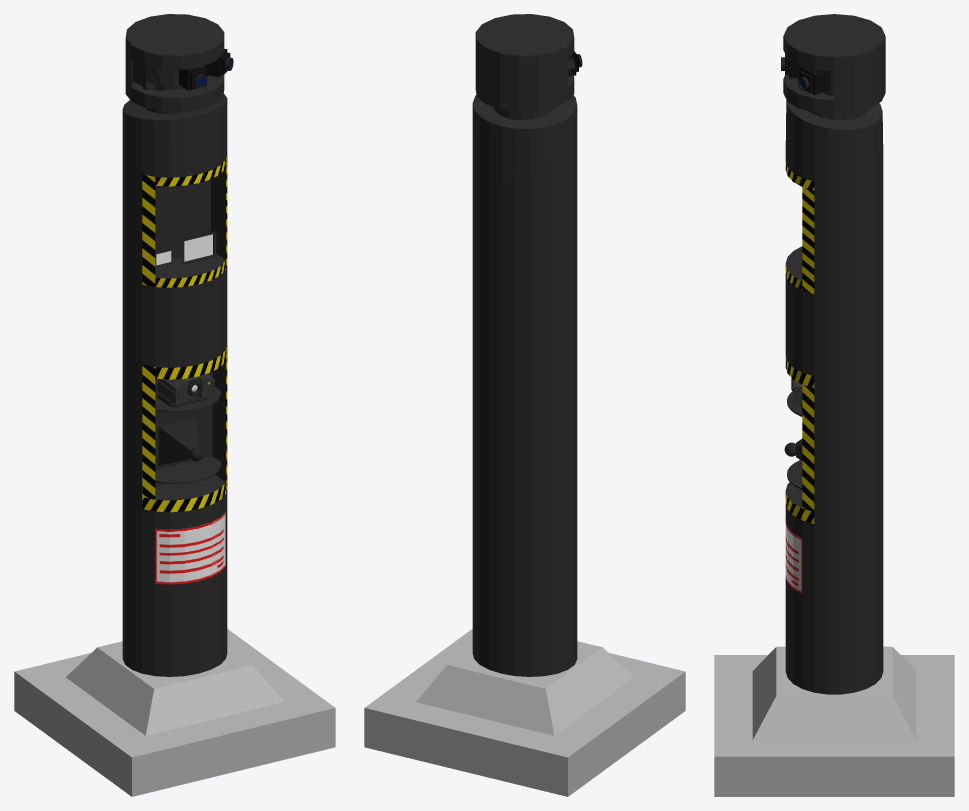
The model's file is radarfixe.obj.
The picture shows the model from 3 angles, left to right: view 1: azimuth 30°, elevation 25°; view 2: azimuth 150°, elevation 25°; view 3: azimuth 270°, elevation 25°; orthographic projection. The views are drawn at different scales.
Parts seen in each view (by area): view 1: Cylinder; view 2: Cylinder; view 3: Cylinder.
Part boxes in pixels (bbox=[...]): Cylinder: bbox=[14, 14, 335, 796]; Cylinder: bbox=[364, 14, 685, 796]; Cylinder: bbox=[714, 14, 954, 796].
Bounding box in the file's own units: 0.8597 × 2.8 × 0.8597.
Materials: 2 (2 with a texture image).
